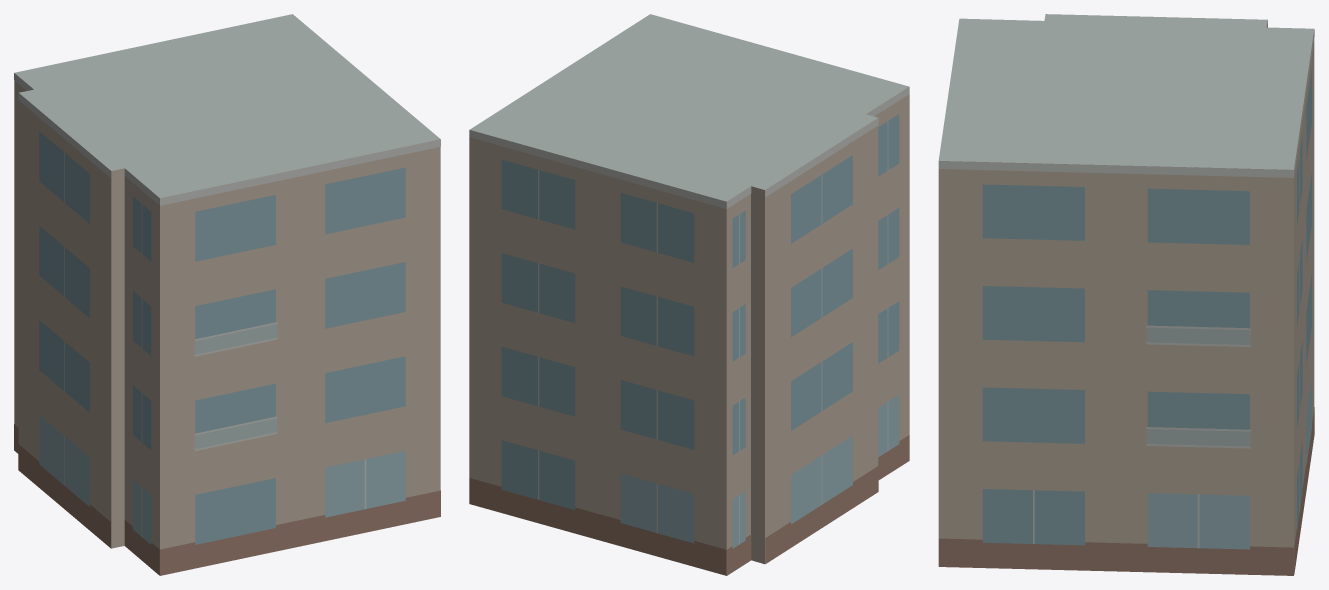
Rendered from survey-upis-32811502.glb.
3 views of the same model, side by side, from view 1: azimuth 30°, elevation 25°; view 2: azimuth 150°, elevation 25°; view 3: azimuth 270°, elevation 25° (orthographic). The views are drawn at different scales.
Visible parts, largest first — view 1: survey-upis-32811502.tmp; view 2: survey-upis-32811502.tmp; view 3: survey-upis-32811502.tmp.
Part boxes in pixels (x1,y1,x2,y2): survey-upis-32811502.tmp: (14,14,440,575); survey-upis-32811502.tmp: (469,14,909,575); survey-upis-32811502.tmp: (938,14,1314,575).
Bounding box in the file's own units: 10.05 × 12.2 × 10.25.
